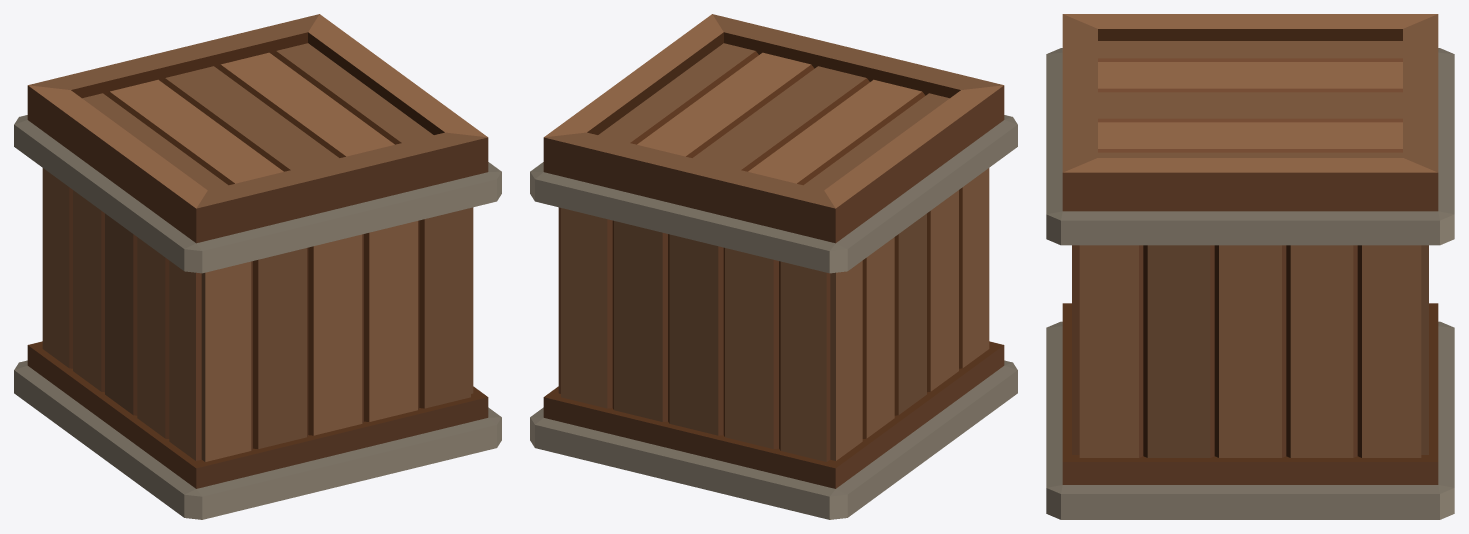
The model's file is crate.fbx.
3 renders of one model, left to right at view 1: azimuth 30°, elevation 25°; view 2: azimuth 150°, elevation 25°; view 3: azimuth 270°, elevation 25°, orthographic. The views are drawn at different scales.
Parts seen in each view (by area): view 1: crate; view 2: crate; view 3: crate.
Part boxes in pixels (bbox=[...]): crate: bbox=[14, 14, 501, 519]; crate: bbox=[530, 14, 1017, 519]; crate: bbox=[1046, 14, 1454, 519].
Bounding box in the file's own units: 86.98 × 80 × 86.98.
